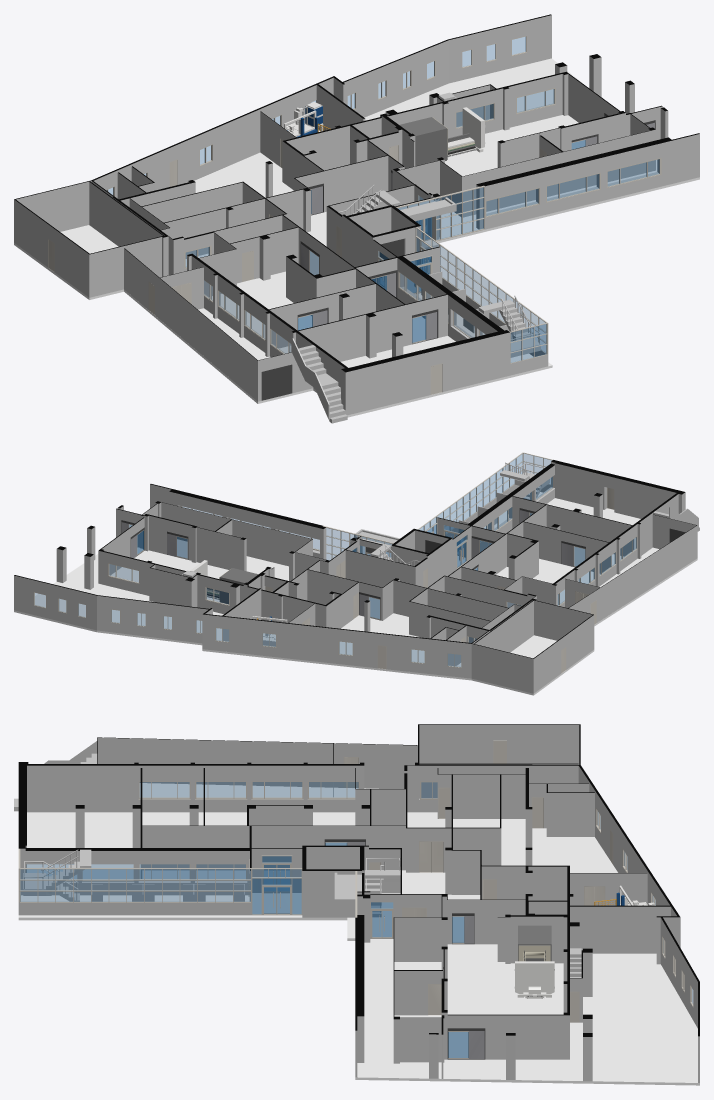
3 views of the same model, one above another, from view 1: azimuth 30°, elevation 25°; view 2: azimuth 150°, elevation 25°; view 3: azimuth 270°, elevation 25° (orthographic). The views are drawn at different scales.
Visible parts, largest first — view 1: A1_1F_벽, A1_1F_바닥, A1_1F_창문, A1_1F_자동문, oven, A1_1~2F_계단, A1_1F_방화문, A1_1F_외곽 계단, A1_1F_슬라이딩 도어, A1_1F_강화도어, Box228; view 2: A1_1F_벽, A1_1F_바닥, A1_1F_창문, A1_1F_자동문, A1_1F_방화문, A1_1~2F_계단, oven, A1_1F_강화도어, A1_1F_외곽 계단; view 3: A1_1F_벽, A1_1F_바닥, A1_1F_창문, A1_1F_방화문, A1_1F_강화도어, A1_1~2F_계단, oven, A1_1F_자동문, A1_1F_외곽 계단.
Part boxes in pixels (x1,y1,x2,y2): A1_1F_벽: (14,14,699,415); A1_1F_바닥: (14,58,699,417); A1_1F_창문: (106,35,661,363); A1_1F_자동문: (297,113,655,344); oven: (399,107,485,166); A1_1~2F_계단: (338,185,540,357); A1_1F_방화문: (48,104,546,394); A1_1F_외곽 계단: (292,338,347,423); A1_1F_슬라이딩 도어: (261,239,403,400); A1_1F_강화도어: (377,194,433,294); Box228: (283,102,330,137); A1_1F_벽: (14,460,697,693); A1_1F_바닥: (14,492,697,695); A1_1F_창문: (33,452,637,668); A1_1F_자동문: (121,508,585,620); A1_1F_방화문: (265,487,614,673); A1_1~2F_계단: (370,462,549,565); oven: (190,560,258,604); A1_1F_강화도어: (352,523,467,569); A1_1F_외곽 계단: (653,507,699,531); A1_1F_벽: (18,724,699,1082); A1_1F_바닥: (18,783,699,1085); A1_1F_창문: (18,781,693,1007); A1_1F_방화문: (343,740,613,1022); A1_1F_강화도어: (248,855,393,938); A1_1~2F_계단: (23,849,400,917); oven: (514,925,554,998); A1_1F_자동문: (324,839,485,1059); A1_1F_외곽 계단: (14,741,97,811).
Bounding box in the file's own units: 53.62 × 4.94 × 49.85.
